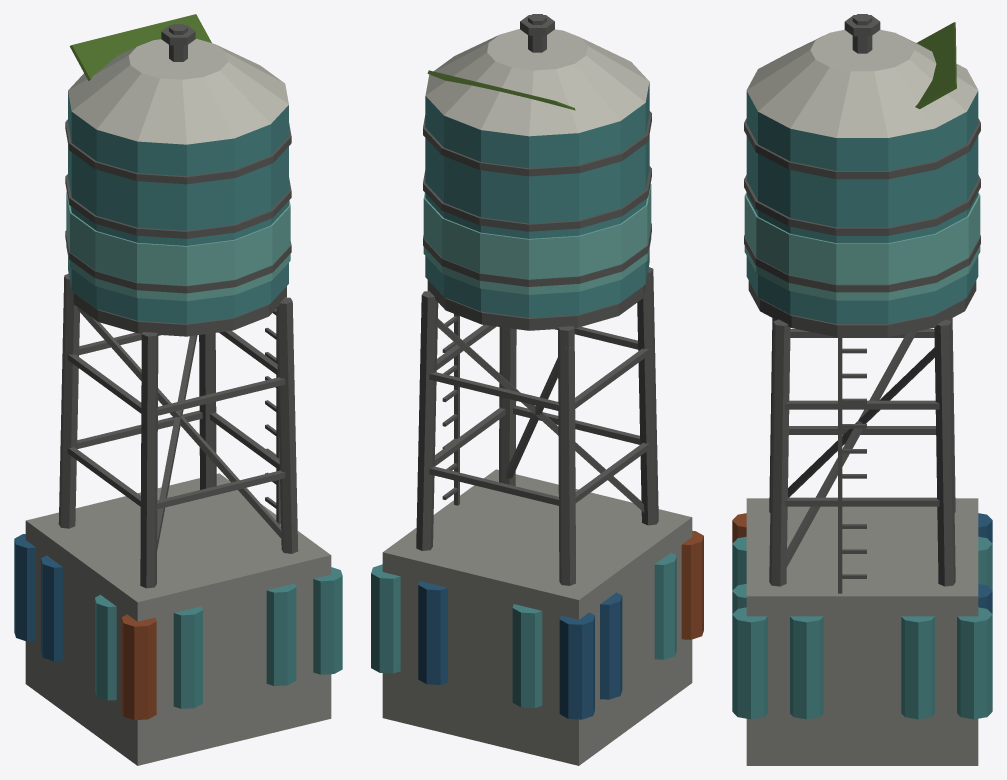
The model's file is fort_cistern_tower.glb.
3 views of the same model, side by side, from view 1: azimuth 30°, elevation 25°; view 2: azimuth 150°, elevation 25°; view 3: azimuth 270°, elevation 25° (orthographic). The views are drawn at different scales.
Parts seen in each view (by area): view 1: fort_cistern_tower; view 2: fort_cistern_tower; view 3: fort_cistern_tower.
Part boxes in pixels (x1,y1,x2,y2): fort_cistern_tower: (14,14,342,765); fort_cistern_tower: (371,14,703,765); fort_cistern_tower: (732,14,992,765).
Size of the model in its own units: 5.84 by 17.3 by 5.84.
